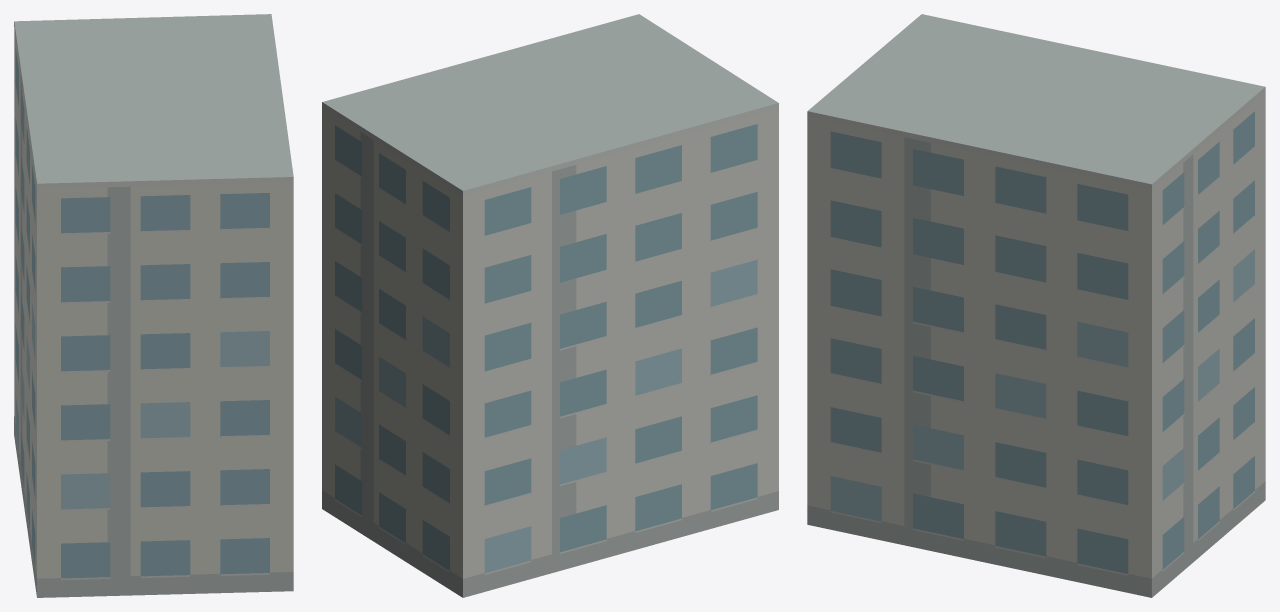
Rendered from survey-upis-32966160.glb.
The picture shows the model from 3 angles, left to right: view 1: azimuth 30°, elevation 25°; view 2: azimuth 150°, elevation 25°; view 3: azimuth 270°, elevation 25°; orthographic projection.
Visible parts, largest first — view 1: survey-upis-32966160.tmp; view 2: survey-upis-32966160.tmp; view 3: survey-upis-32966160.tmp.
Part boxes in pixels (x1,y1,x2,y2): survey-upis-32966160.tmp: (14, 14, 293, 597); survey-upis-32966160.tmp: (322, 14, 778, 597); survey-upis-32966160.tmp: (807, 14, 1265, 597).
Bounding box in the file's own units: 16.38 × 18.53 × 18.61.
